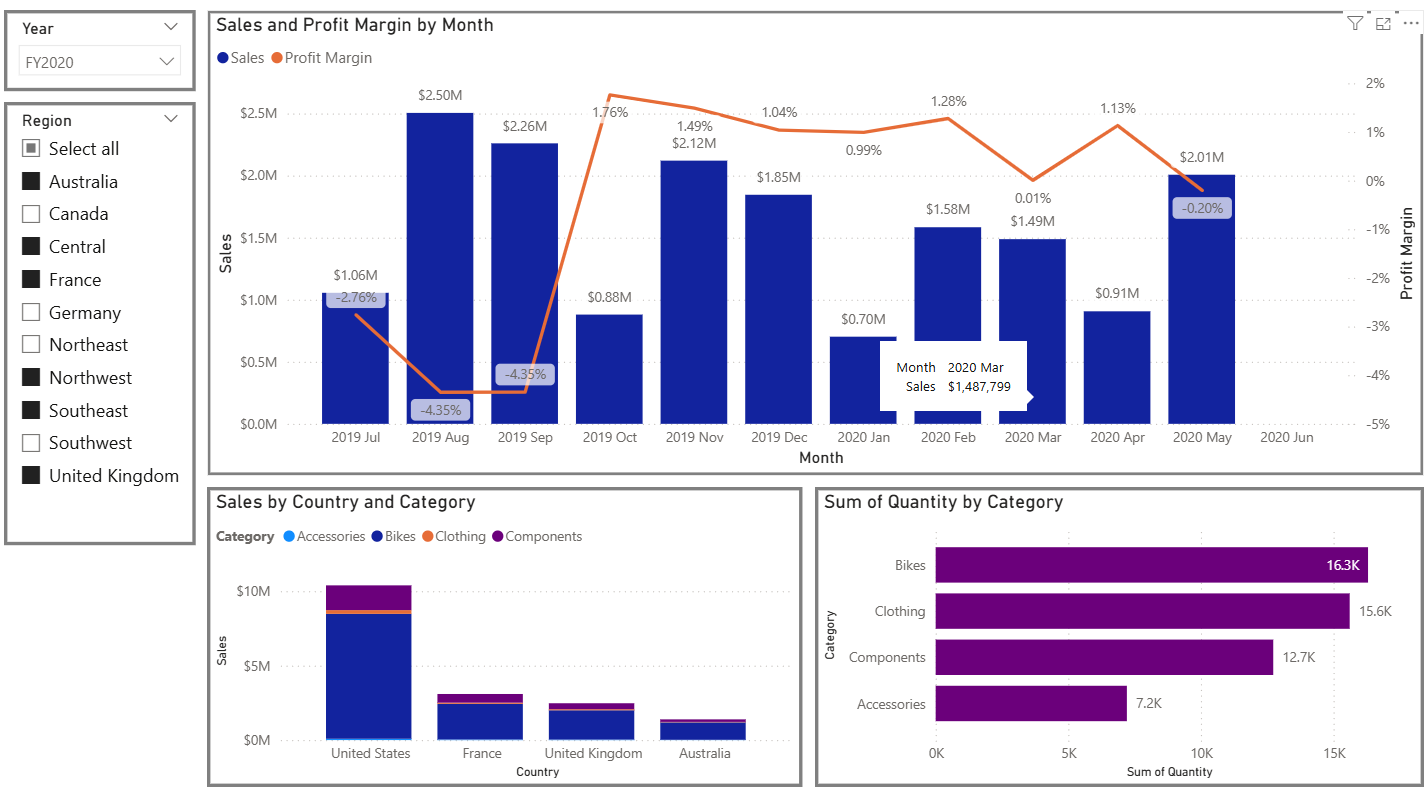

What the dashboard file says about the page in this screenshot:
{"tool":"powerbi","page":{"name":"Overview","canvas":[1280,720],"ordinal":0},"visuals":[{"type":"slicer","fields":{"Values":["Date.Year"]},"box":[10.1,15.8,169.9,72],"z":1000},{"type":"slicer","fields":{"Values":["Region.Region"]},"box":[10.1,97.9,169.9,393.1],"z":2000},{"type":"lineStackedColumnComboChart","fields":{"Category":["Date.Month"],"Y":["Sum(Sales.Sales)"],"Y2":["Sales.Profit Margin"]},"box":[190.1,15.8,1078.6,413.3],"z":3000},{"type":"columnChart","fields":{"Category":["Region.Country"],"Y":["Sum(Sales.Sales)"],"Series":["Product.Category"]},"box":[190.1,439.2,528.5,266.4],"z":4000},{"type":"barChart","fields":{"Category":["Product.Category"],"Y":["Sum(Sales.Quantity)"]},"box":[728.6,439.2,540,266.4],"z":5000}]}

Visuals, with their boxes in screenshot pixels (x1, y1, x2, y2), scaled from the page's 1280x720 canvas onto the 1428x799 screenshot:
slicer - Date.Year: (11, 18, 201, 97)
slicer - Region.Region: (11, 109, 201, 545)
lineStackedColumnComboChart - Date.Month x Sum(Sales.Sales): (212, 18, 1415, 476)
columnChart - Region.Country x Sum(Sales.Sales): (212, 487, 802, 783)
barChart - Product.Category x Sum(Sales.Quantity): (813, 487, 1415, 783)
